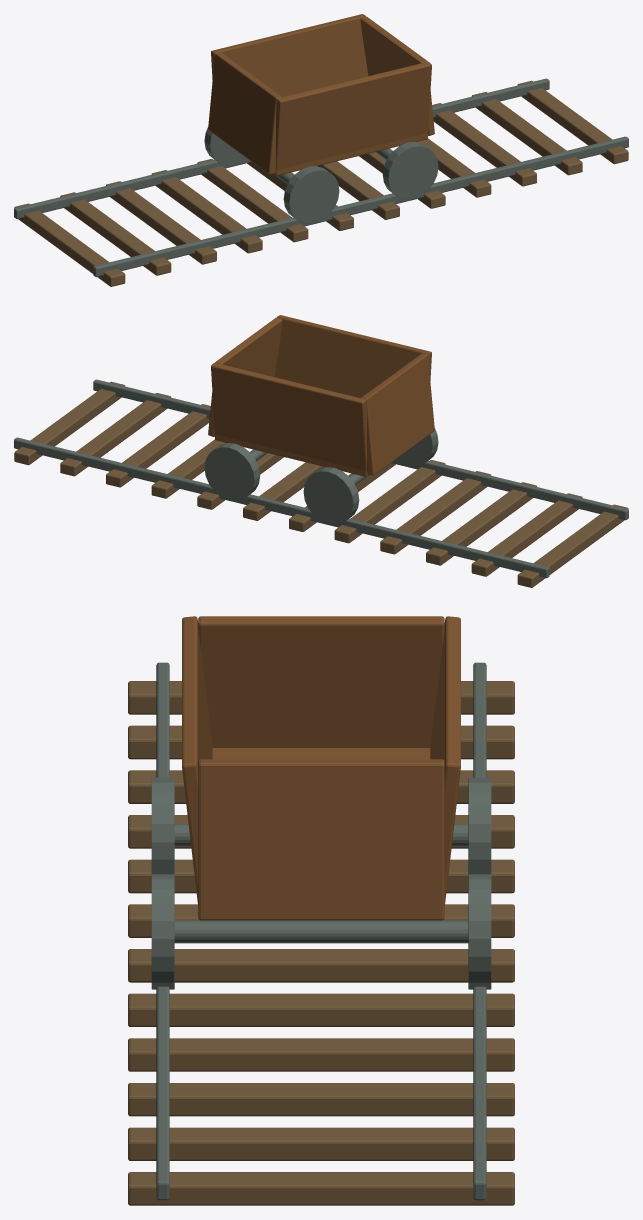
Rendered from MineCart.fbx.
3 renders of one model, top to bottom at view 1: azimuth 30°, elevation 25°; view 2: azimuth 150°, elevation 25°; view 3: azimuth 270°, elevation 25°, orthographic. The views are drawn at different scales.
Parts seen in each view (by area): view 1: MineCart; view 2: MineCart; view 3: MineCart.
Part boxes in pixels (x1=…): MineCart: x1=14, y1=14, x2=628, y2=286; MineCart: x1=14, y1=315, x2=628, y2=587; MineCart: x1=128, y1=616, x2=514, y2=1205.
Size of the model in its own units: 700 by 220 by 166.
